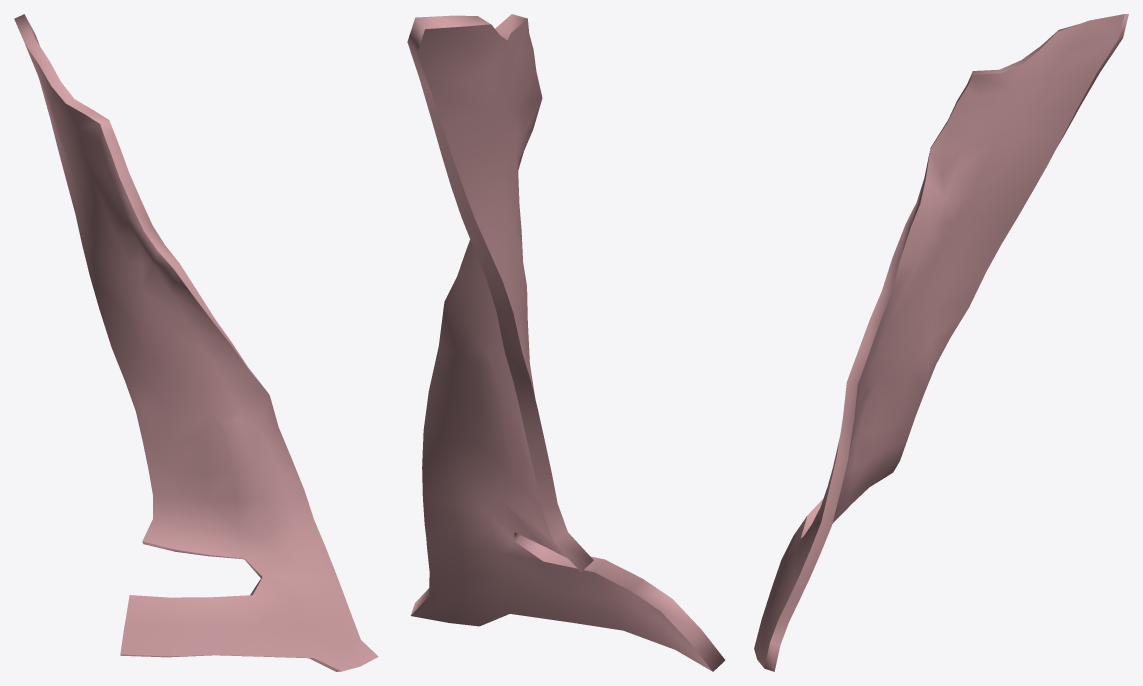
3 views of the same model, side by side, from view 1: azimuth 30°, elevation 25°; view 2: azimuth 150°, elevation 25°; view 3: azimuth 270°, elevation 25° (orthographic). The views are drawn at different scales.
Visible parts, largest first — view 1: ZA_5c7ec6f1ae1ecb70; view 2: ZA_5c7ec6f1ae1ecb70; view 3: ZA_5c7ec6f1ae1ecb70.
Part boxes in pixels (bbox=[...]): ZA_5c7ec6f1ae1ecb70: bbox=[14, 14, 378, 671]; ZA_5c7ec6f1ae1ecb70: bbox=[407, 14, 725, 671]; ZA_5c7ec6f1ae1ecb70: bbox=[754, 14, 1128, 671].
Bounding box in the file's own units: 0.07 × 0.163 × 0.0967.
